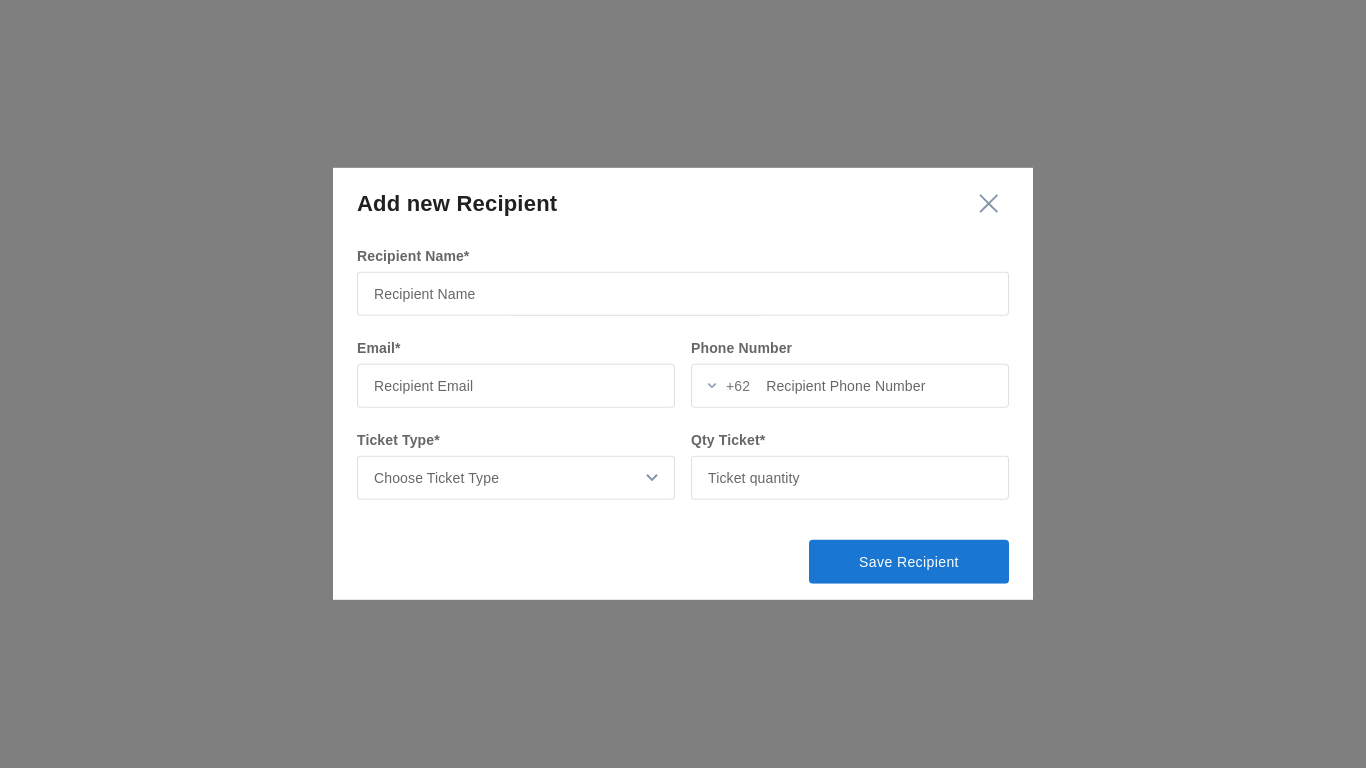
AddNewRecipientModal › validates required fields
Click the button "Save Recipient".
click(909, 562)  # box [809,540,1009,584]
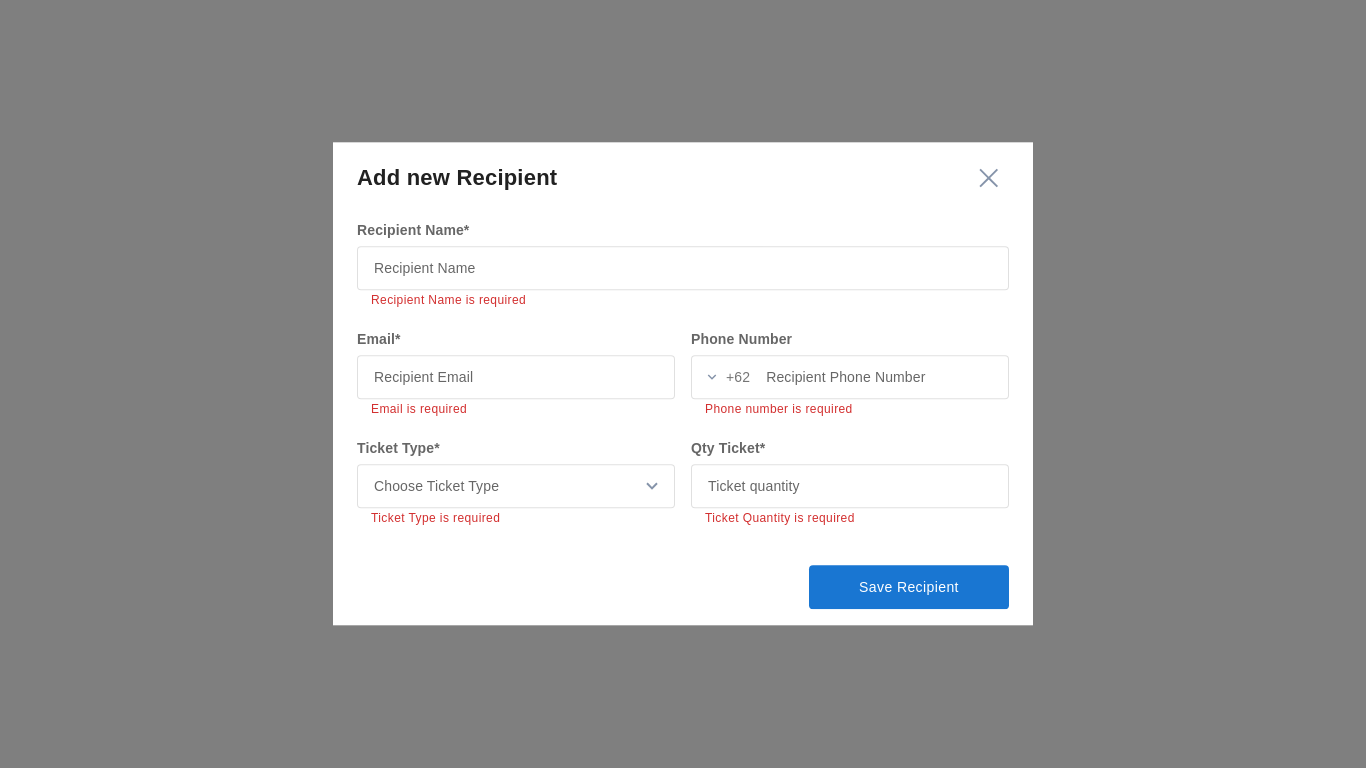
Now the text "Recipient Name is required" is shown, box [371,293,526,307]
Now the text "Email is required" is shown, box [371,403,467,417]
Now the text "Phone number is required" is shown, box [705,403,853,417]
